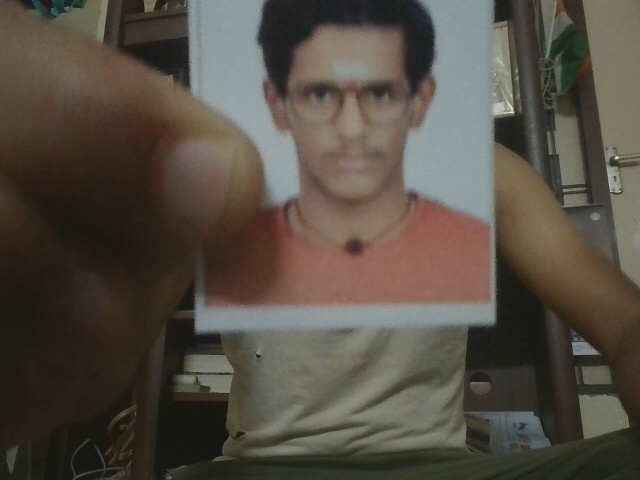fake: (261, 29, 439, 207)
